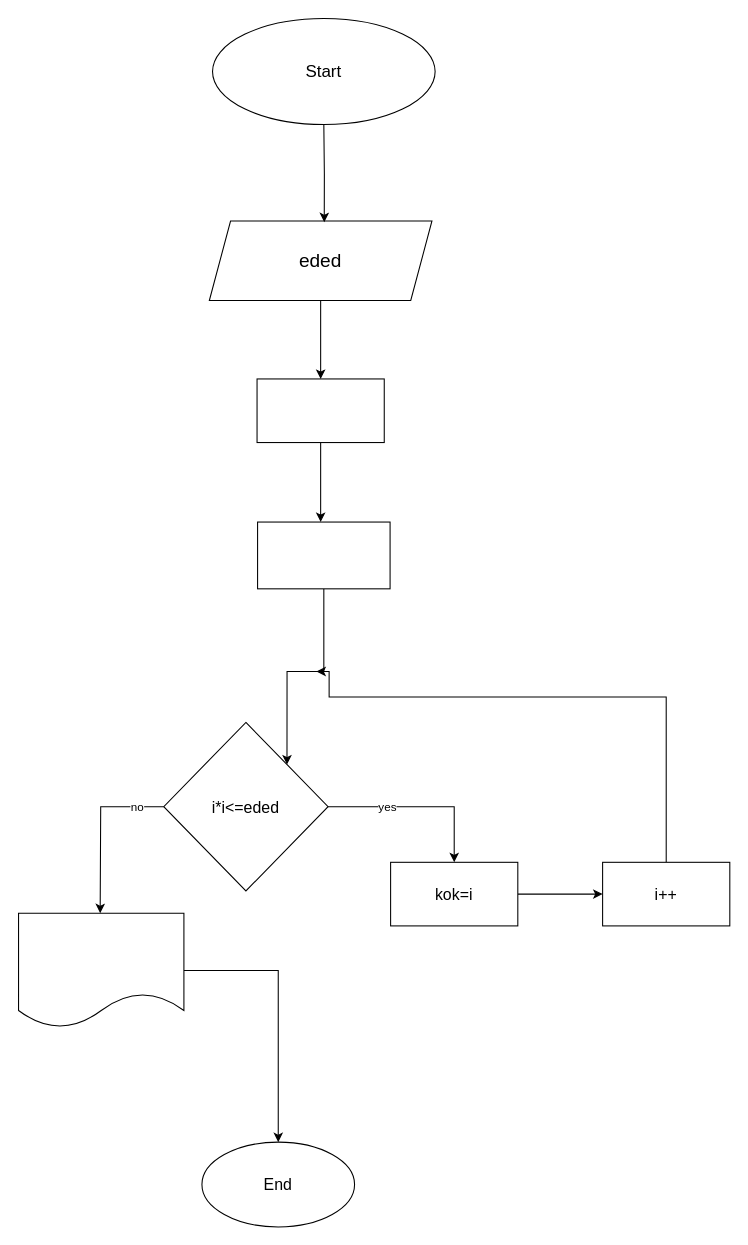
The diagram is 748 pixels wide and 1245 high, and some of its shapes have lost their labels. Here are the shapes that lost their labels. From the top down, the centre of each, then its label:
(x=320, y=410): let kok=1
(x=323, y=555): let i=1
(x=100, y=970): "Ən aşağı kök:" +kok
